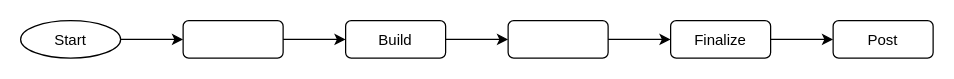
Some shapes in this 954 by 79 pixel diagram are drawn without their labels. The centre of each missing label's shape, as x and y in pixels:
Init: (x=232, y=38)
PPDM: (x=557, y=38)
